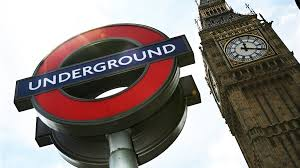London Underground: (12, 25, 193, 116)
